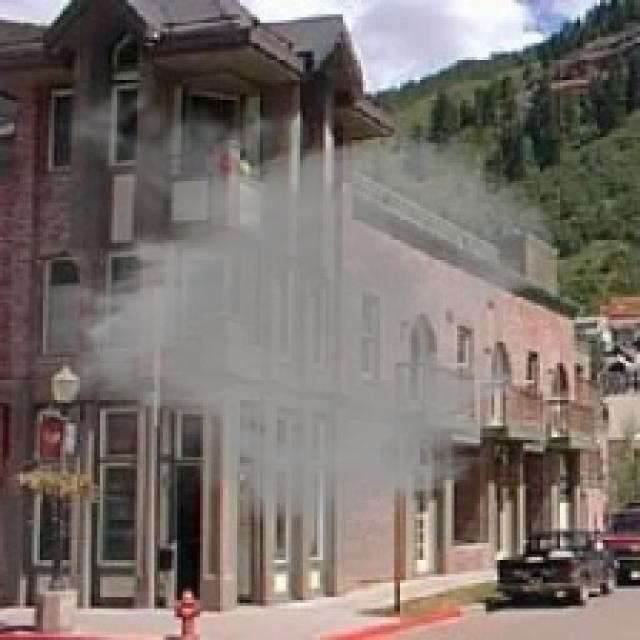Smoke: (11, 75, 563, 594)
